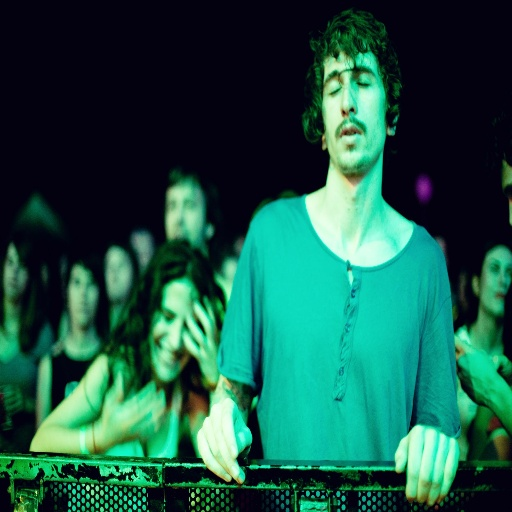hand: (387, 412, 471, 499), (194, 396, 255, 487), (97, 367, 166, 445), (179, 290, 219, 389), (453, 334, 500, 408), (2, 386, 24, 417), (490, 352, 511, 384)
